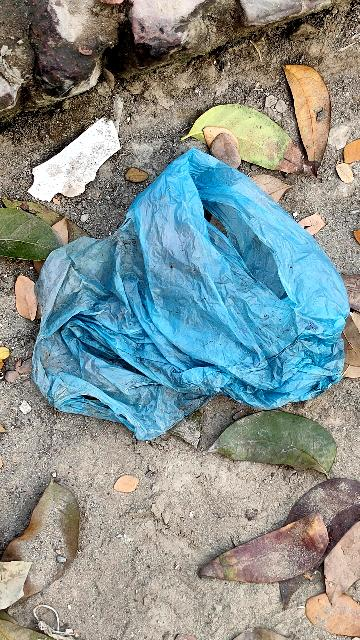polythene: (49, 180, 330, 425)
